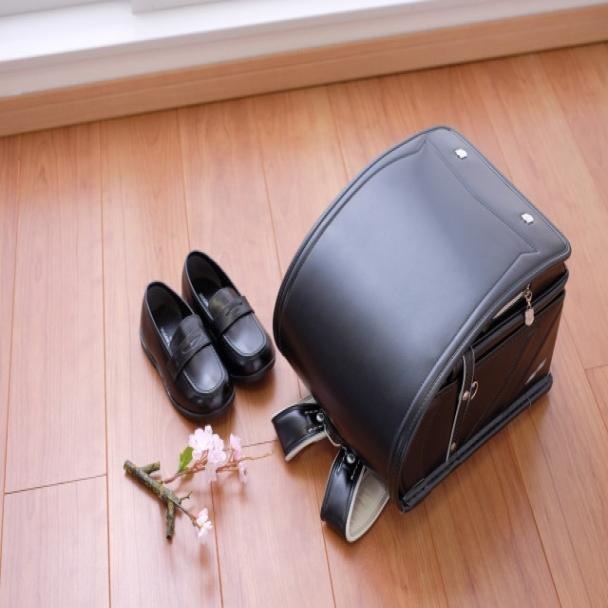Sepatu: (140, 245, 270, 414)
Tas: (275, 124, 568, 490)
